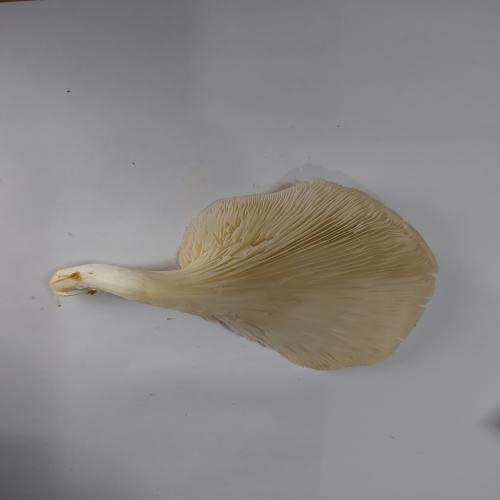Oyster Mushroom: (49, 177, 440, 371)
